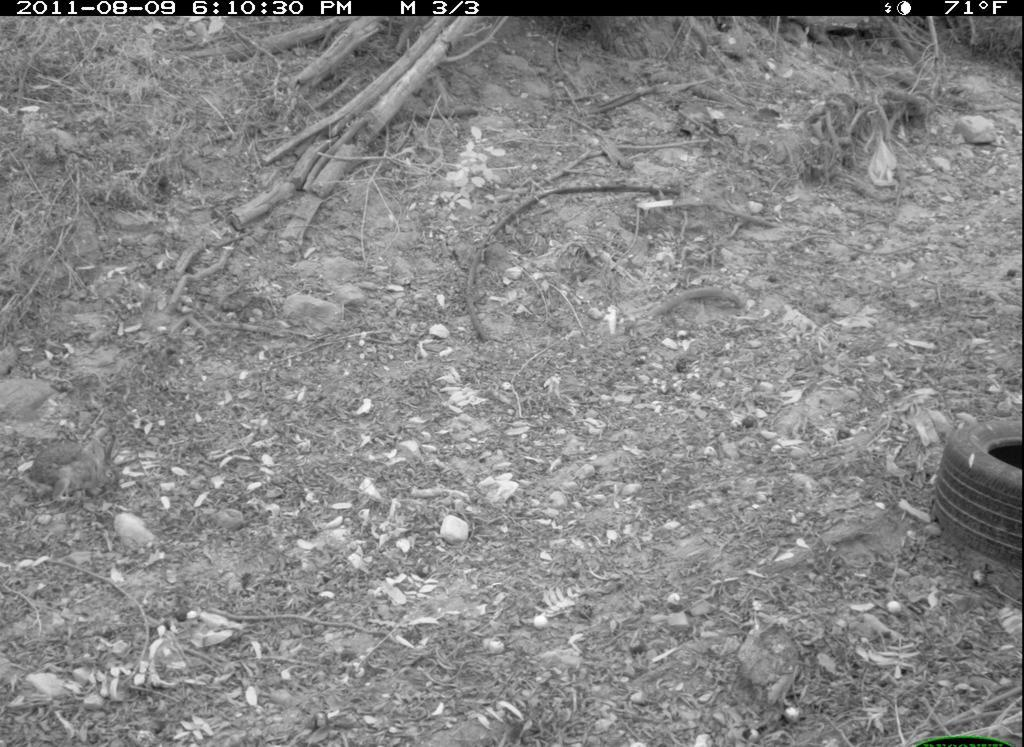rabbit: (27, 436, 134, 510)
